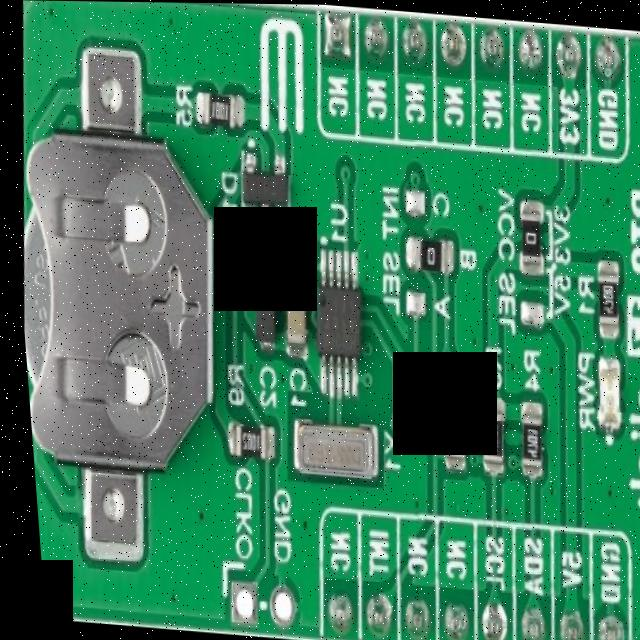4439: (234, 159, 289, 222)
IC: (306, 255, 369, 378)
LED: (583, 356, 622, 432)
battery: (6, 96, 239, 524)
capacitor 1V5: (248, 283, 276, 356), (278, 288, 306, 359)
clock Q1: (285, 425, 377, 479)
resistor IR1: (512, 211, 548, 274), (507, 417, 541, 471), (224, 424, 267, 463), (432, 410, 464, 458), (472, 408, 497, 467), (201, 96, 241, 131), (405, 241, 452, 270), (591, 278, 619, 326)
